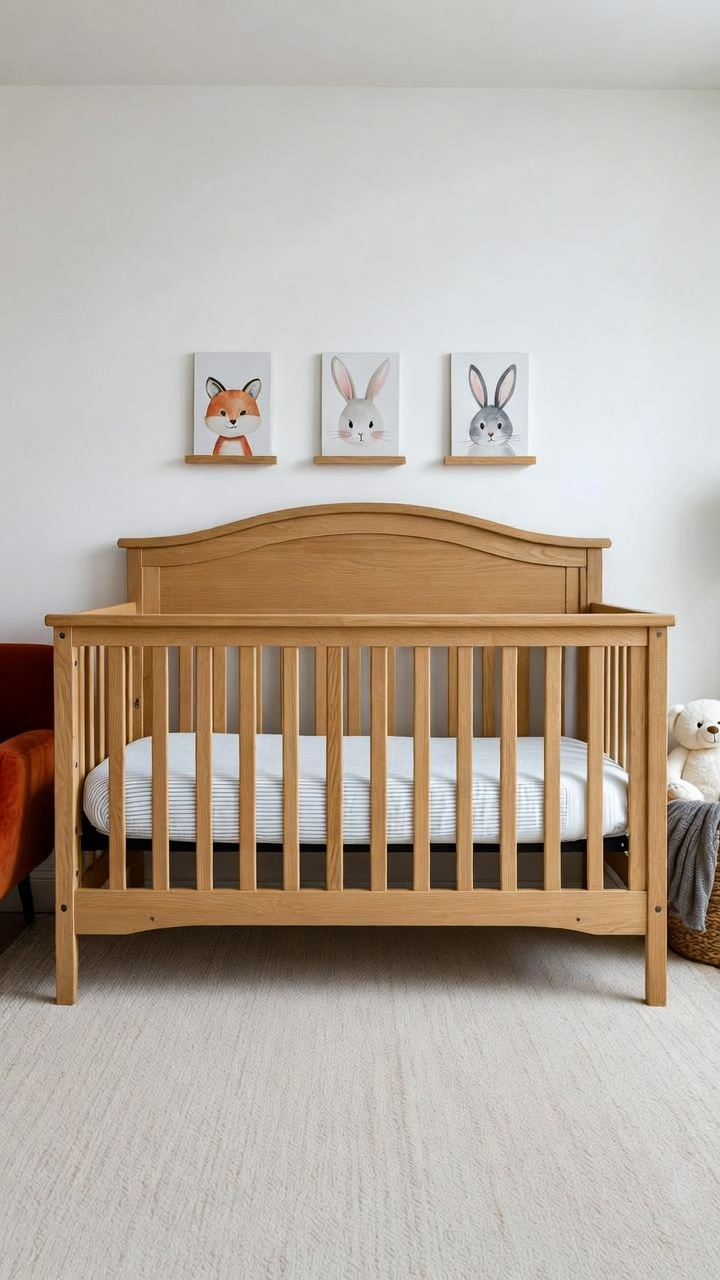crib: (47, 500, 668, 1007)
